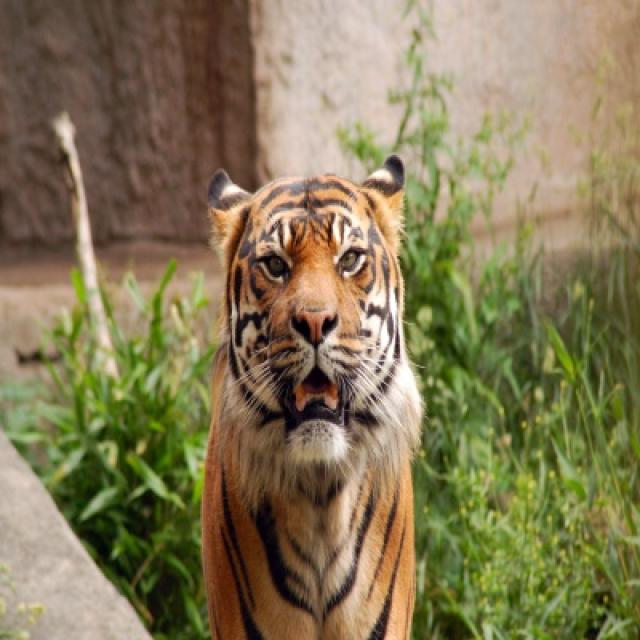Tiger: (202, 155, 422, 638)
